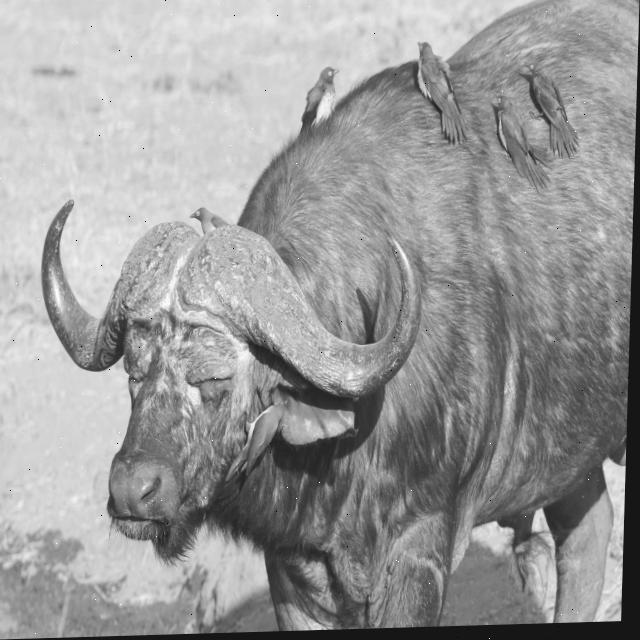Buffalo: (31, 0, 640, 633)
